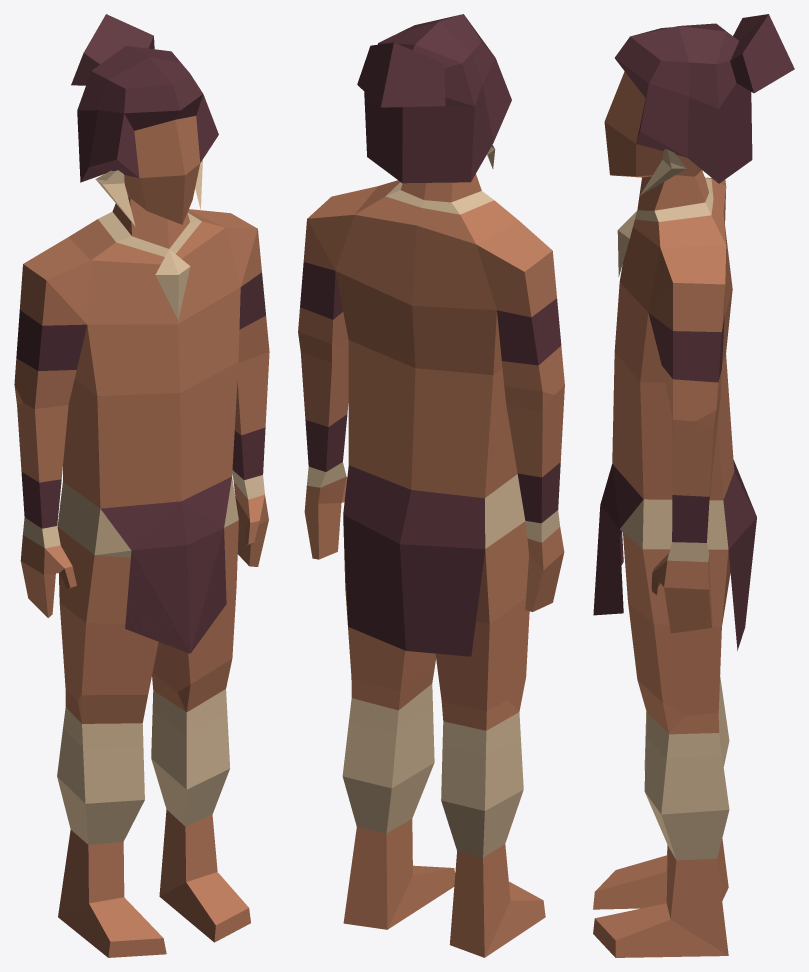
File: SM_Man_Warrior_Tribal.fbx
3 renders of one model, left to right at view 1: azimuth 30°, elevation 25°; view 2: azimuth 150°, elevation 25°; view 3: azimuth 270°, elevation 25°, orthographic. The views are drawn at different scales.
Parts seen in each view (by area): view 1: SM_Man_Warrior_Tribal; view 2: SM_Man_Warrior_Tribal; view 3: SM_Man_Warrior_Tribal.
Part boxes in pixels (x1,y1,x2,y2): SM_Man_Warrior_Tribal: (14, 14, 269, 957); SM_Man_Warrior_Tribal: (298, 14, 564, 957); SM_Man_Warrior_Tribal: (593, 14, 794, 957).
Size of the model in its own units: 0.5348 by 1.89 by 0.3806.
